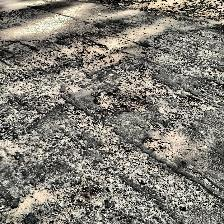pothole: (93, 88, 149, 116), (80, 42, 124, 70), (142, 137, 172, 153)
